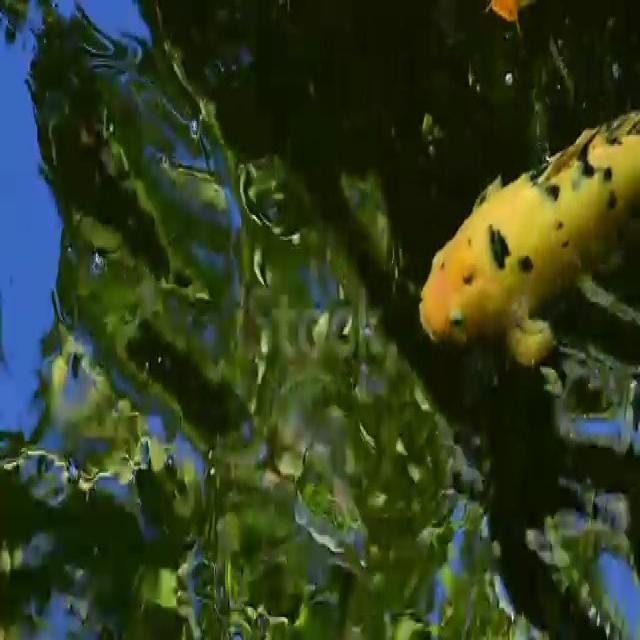fish: (414, 98, 640, 402)
